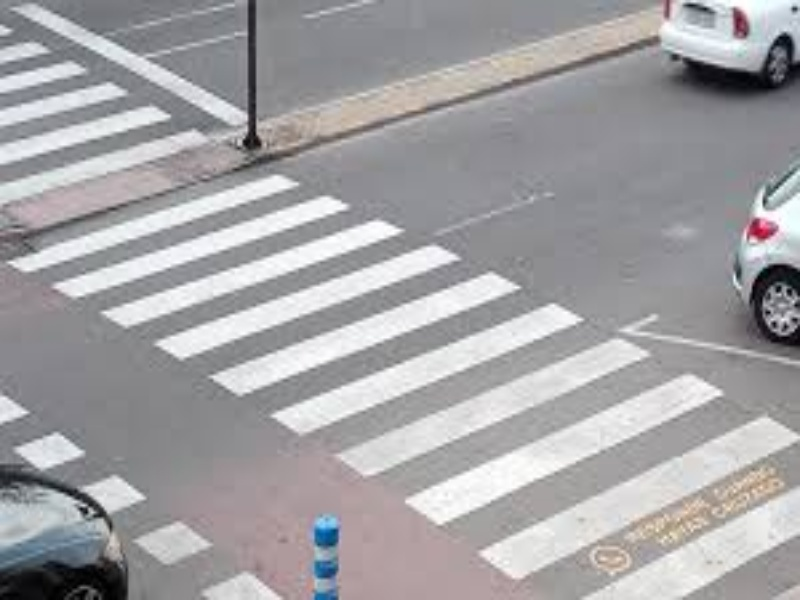zebra cross: (8, 175, 797, 596), (1, 23, 212, 196)
